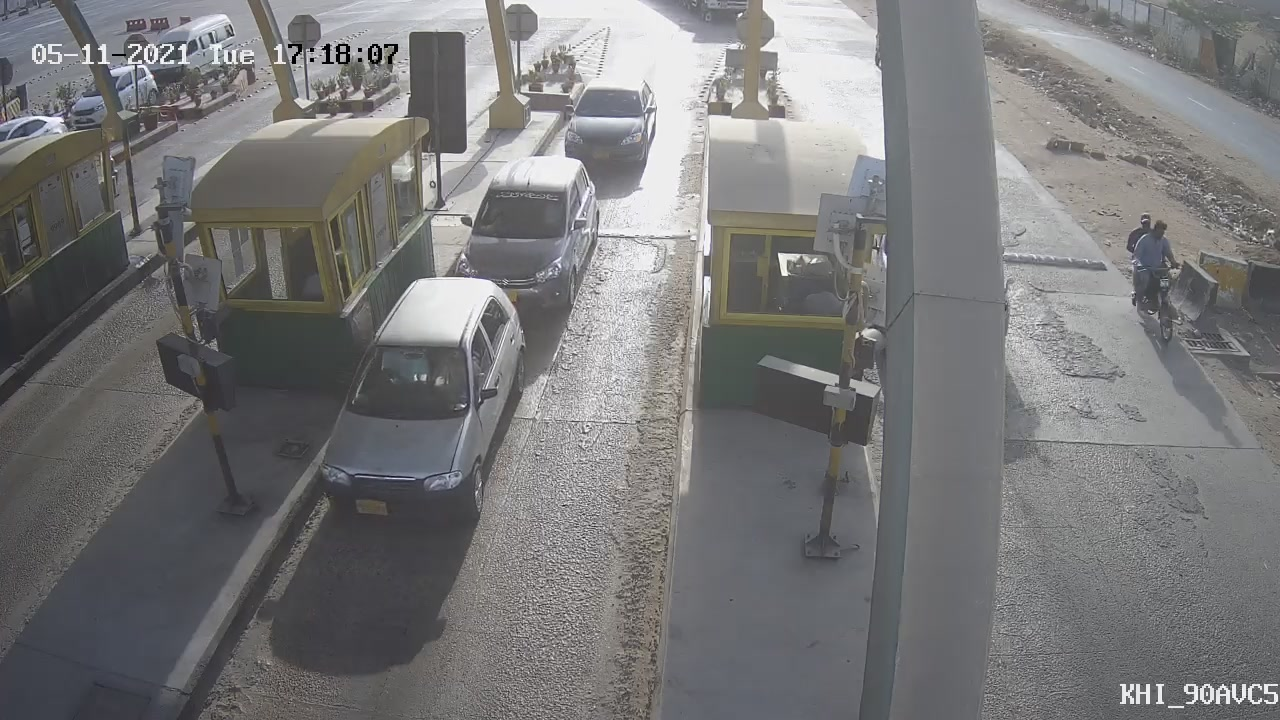F1: (296, 256, 547, 543), (440, 142, 613, 347), (547, 64, 672, 188)
